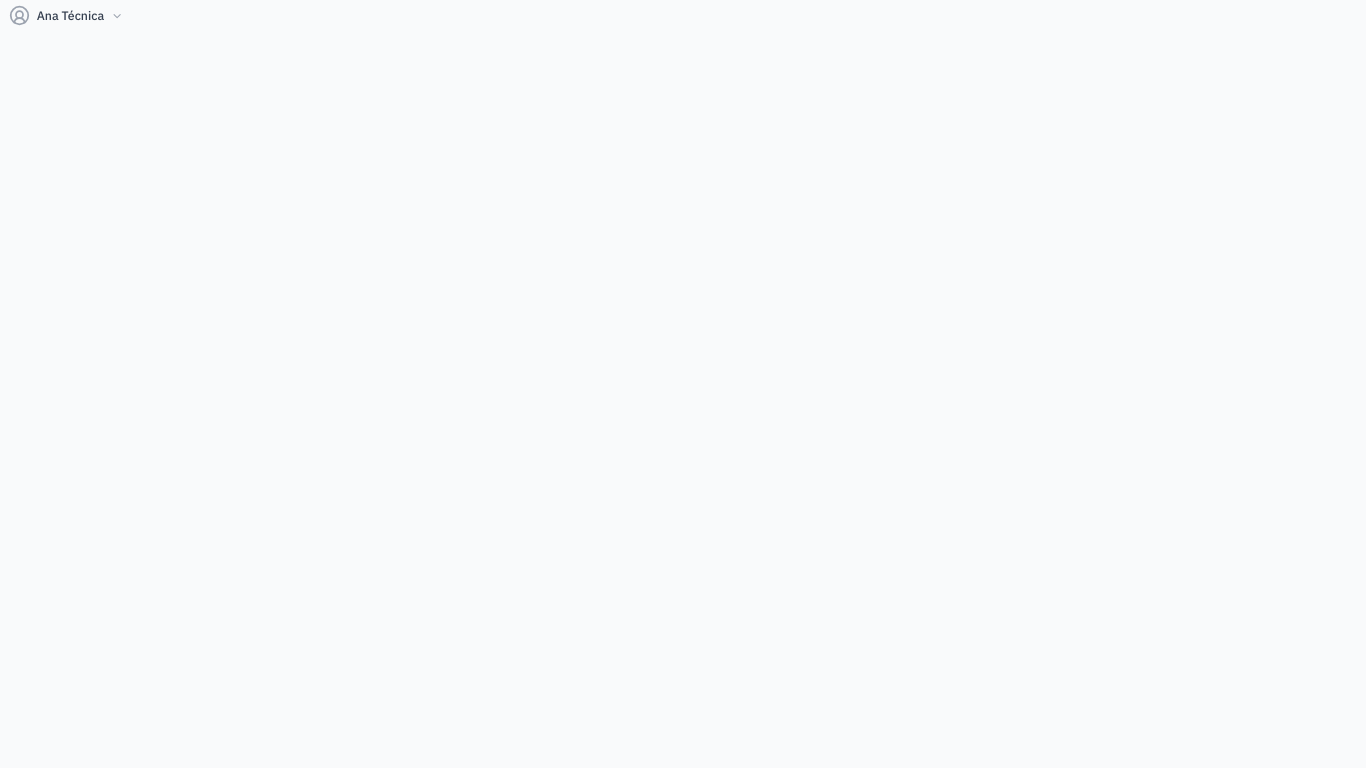
UserMenu › deve aplicar e persistir o tema escuro
Click the button with aria-label "Menu do usuário".
click(66, 16)  # box top-left (4, 0), bottom-right (129, 32)
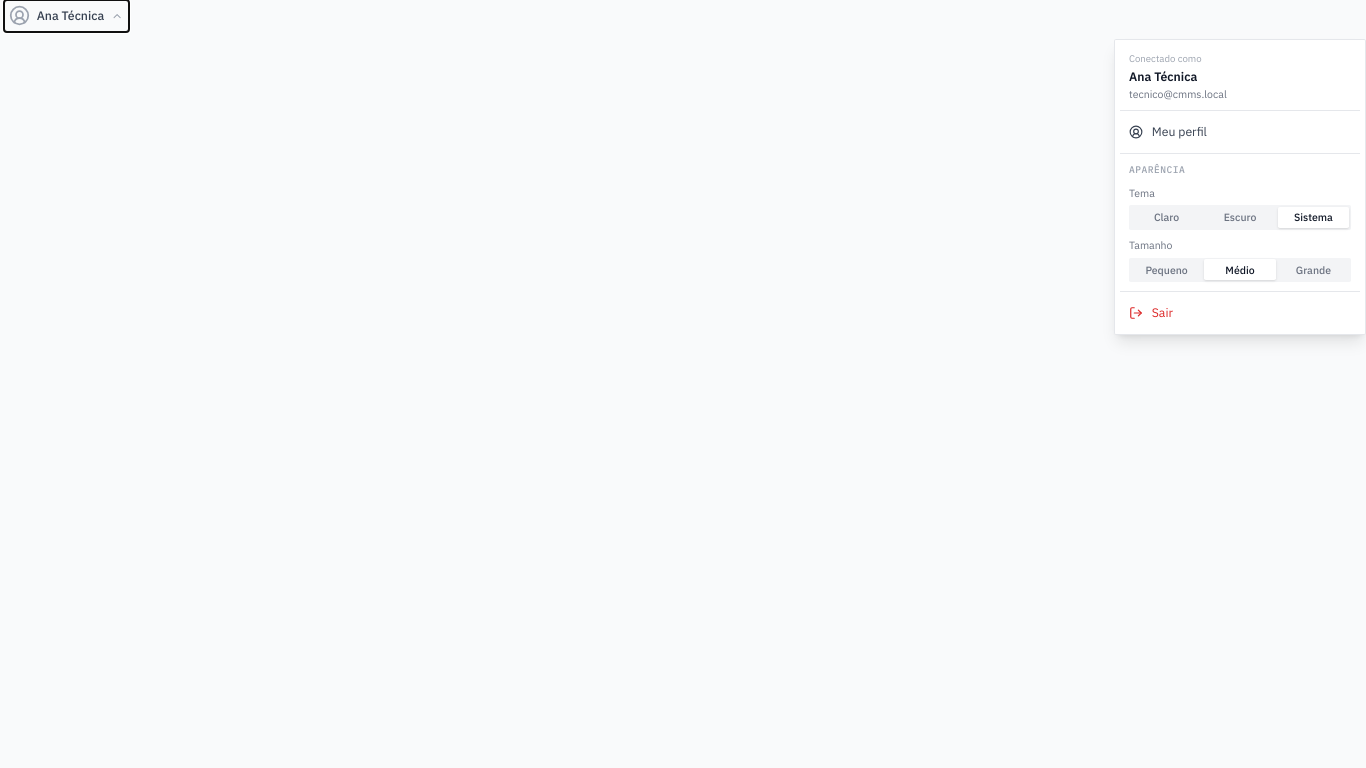
Click the radio button labelled "Escuro".
click(1240, 217)  # box top-left (1204, 207), bottom-right (1276, 228)
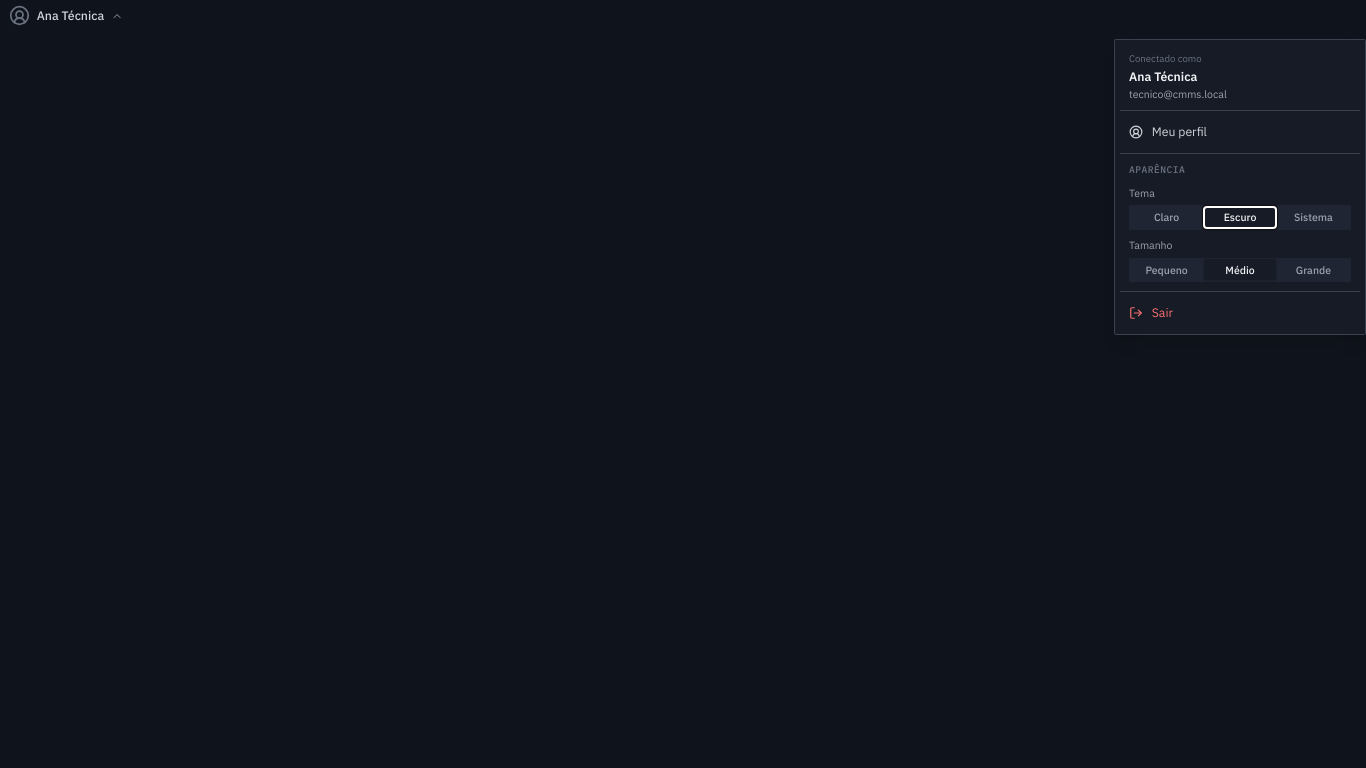
Check: the radio button labelled "Escuro" is checked, box top-left (1204, 207), bottom-right (1276, 228)
